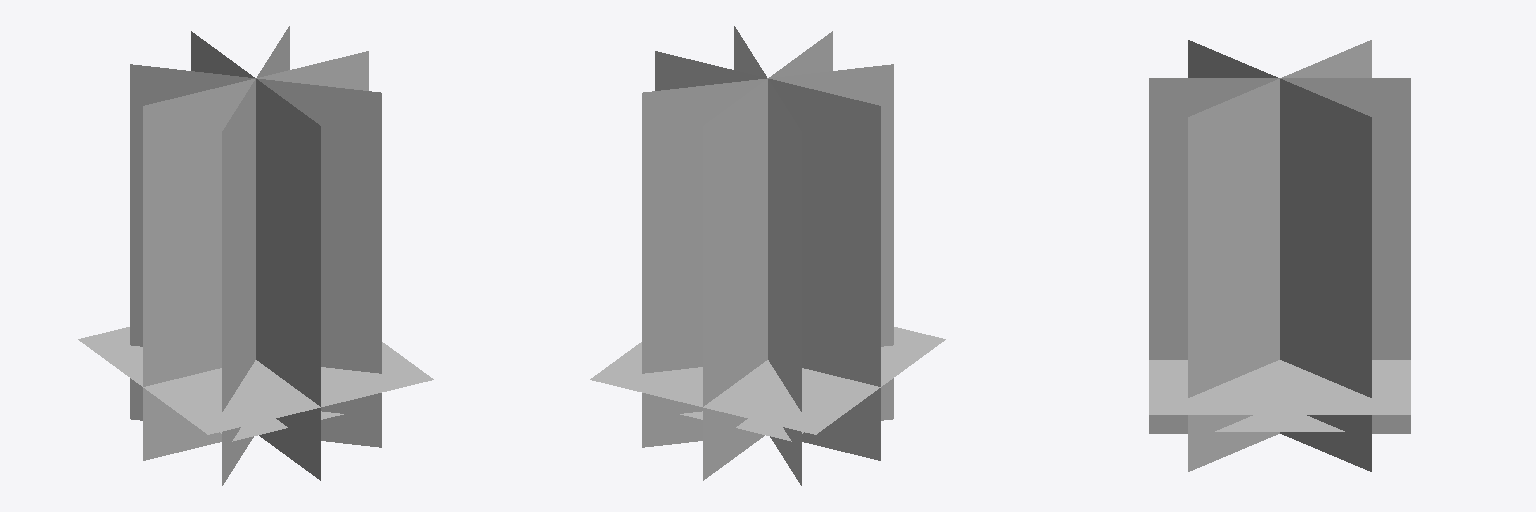
File: smoke_trace.obj
3 views of the same model, side by side, from view 1: azimuth 30°, elevation 25°; view 2: azimuth 150°, elevation 25°; view 3: azimuth 270°, elevation 25° (orthographic).
Visible parts, largest first — view 1: cube; view 2: cube; view 3: cube.
Boxes of the visible parts, x1=… form: cube: x1=78, y1=26, x2=433, y2=485; cube: x1=590, y1=26, x2=945, y2=485; cube: x1=1149, y1=40, x2=1410, y2=471.
Bounding box in the file's own units: 1 × 1.5 × 1.